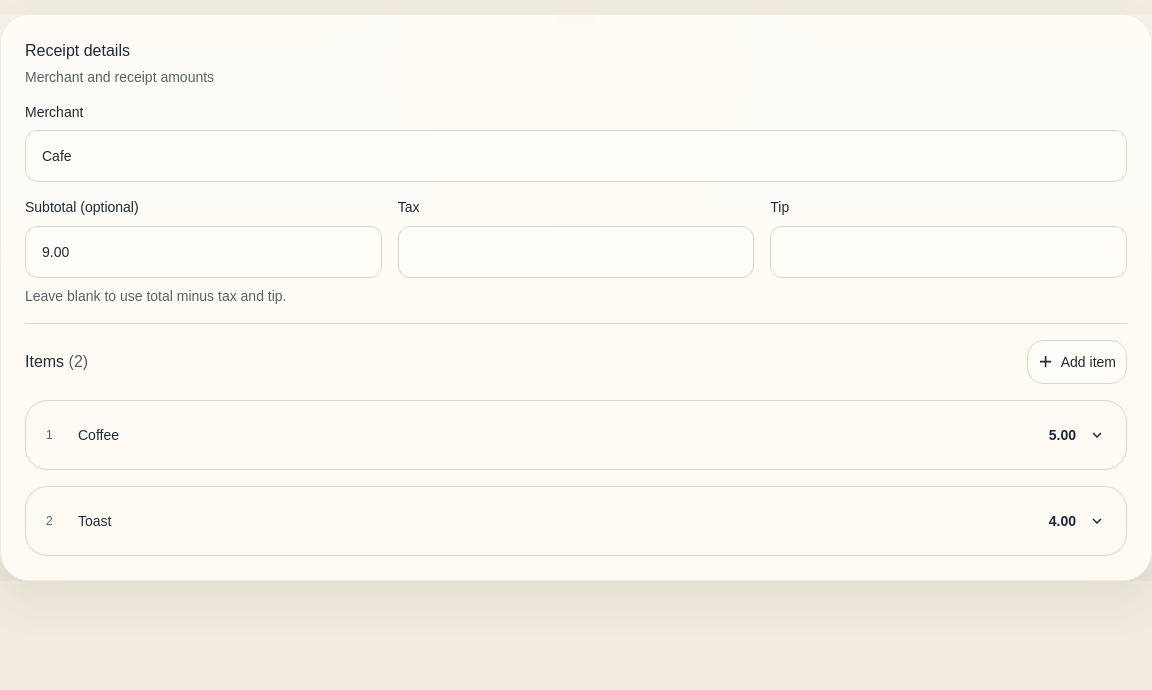
Test case: Create Expense receipt items › starts with compact item summaries and opens one item at a time
Expected: the field labelled "Description" is not shown
Click the button with aria-label "Item 1: Coffee, 5.00" at (98, 434), box x1=38 y1=412 x2=1114 y2=456
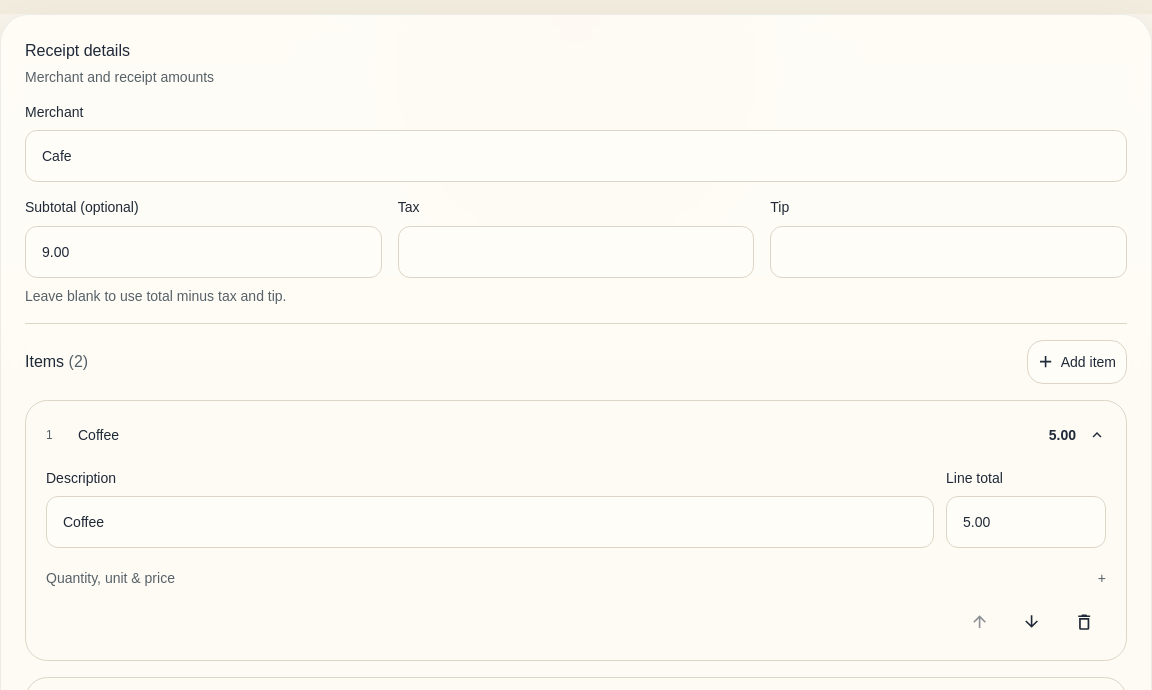
Now the button with aria-label "Item 1: Coffee, 5.00" is expanded, box x1=38 y1=412 x2=1114 y2=456
Replace the text in the field labelled "Description" with "Latte" at (490, 522), box x1=46 y1=496 x2=934 y2=548
(page scrolled)
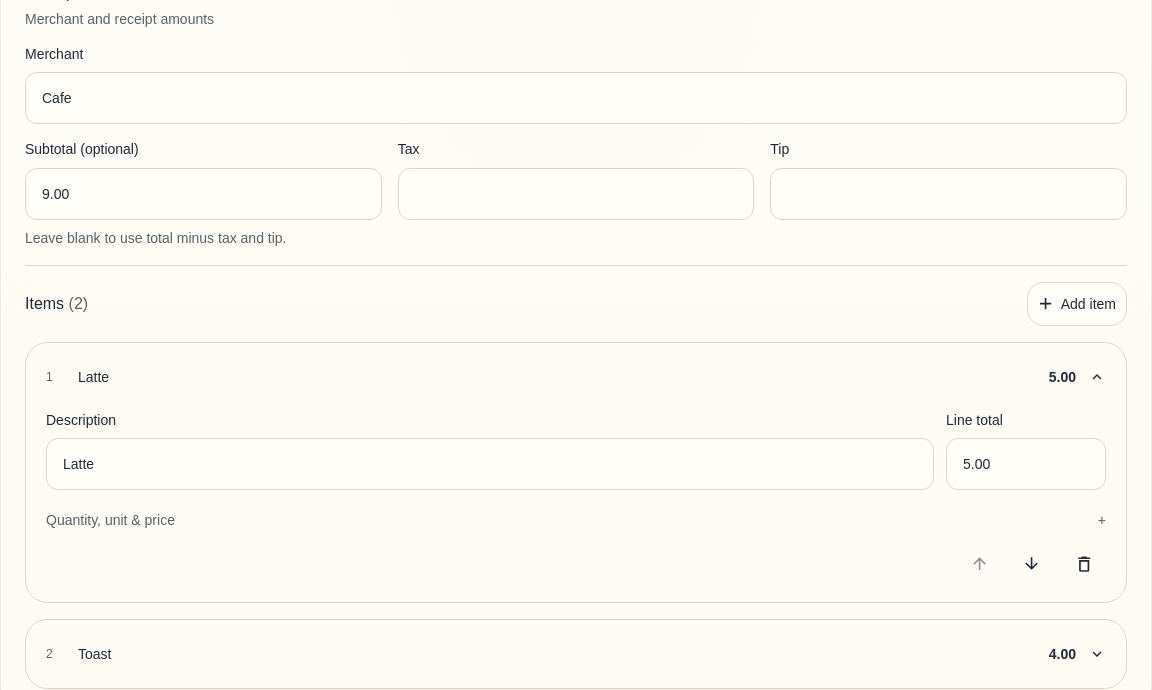
Now the button with aria-label "Item 1: Latte, 5.00" is shown, box x1=38 y1=354 x2=1114 y2=398
Click the button with aria-label "Item 2: Toast, 4.00" at (95, 654), box x1=38 y1=632 x2=1114 y2=676
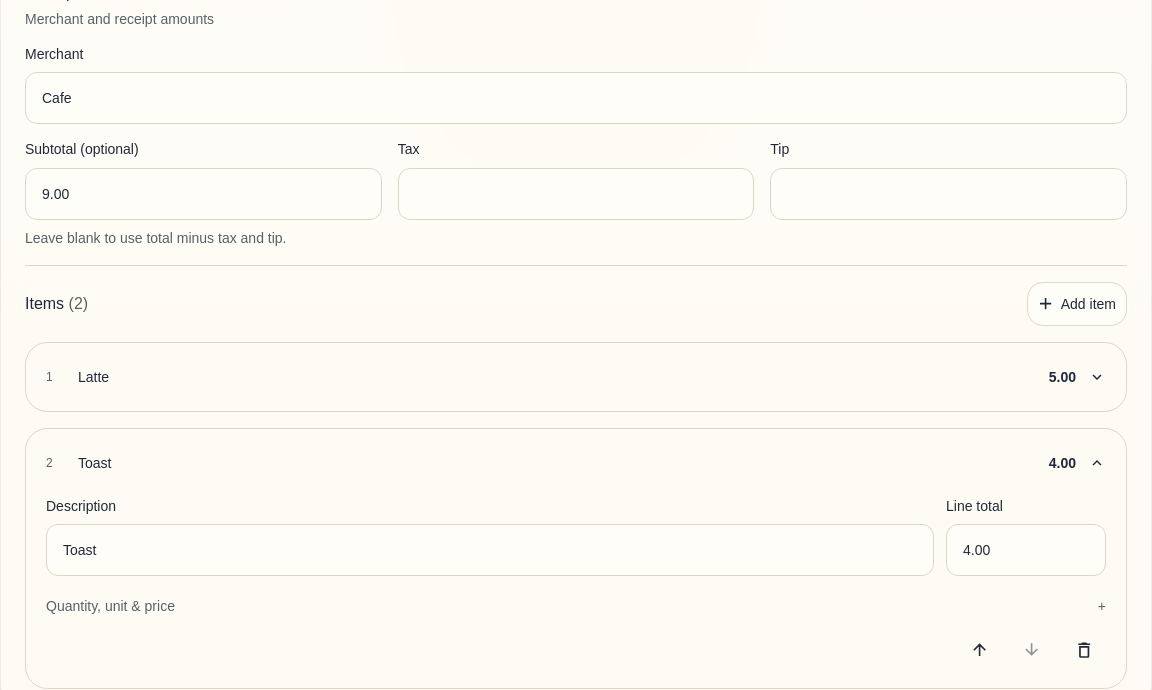
Now the button with aria-label "Item 1: Latte, 5.00" is collapsed, box x1=38 y1=354 x2=1114 y2=398
Now the field labelled "Description" holds "Toast", box x1=46 y1=524 x2=934 y2=576
